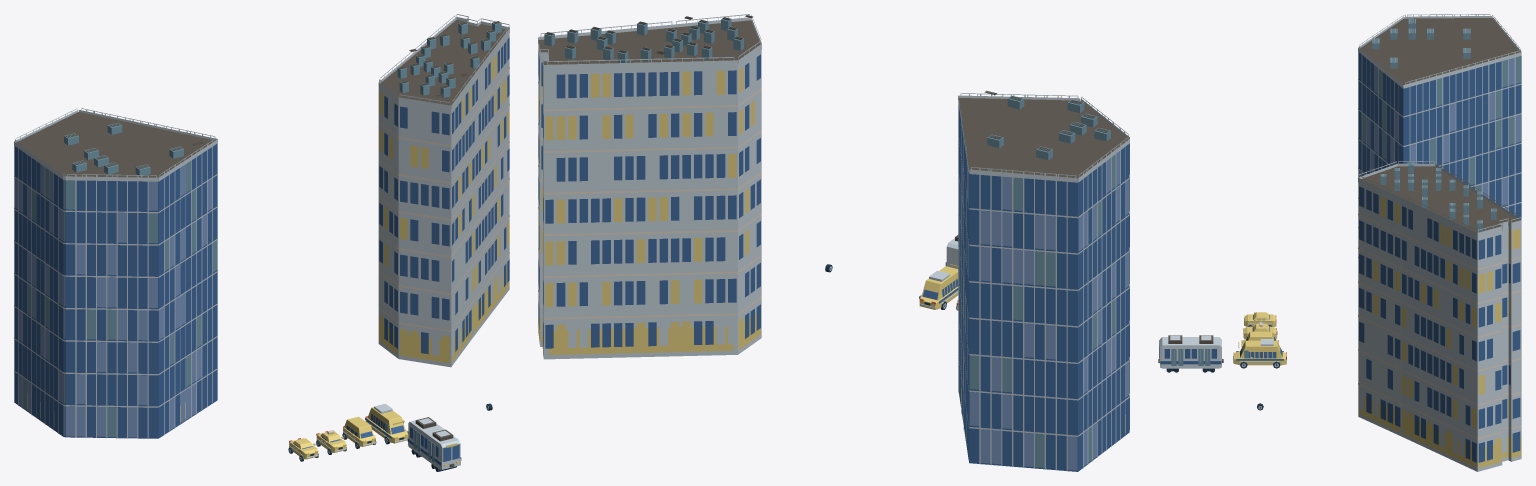
File: shibuya.glb
The picture shows the model from 3 angles, left to right: view 1: azimuth 30°, elevation 25°; view 2: azimuth 150°, elevation 25°; view 3: azimuth 270°, elevation 25°; orthographic projection. The views are drawn at different scales.
Visible parts, largest first — view 1: building-qfront-body, building-magnet-body, metro-carriage-body, vehicle-bus-body, vehicle-van-body; view 2: building-magnet-body, building-qfront-body, vehicle-bus-body; view 3: building-magnet-body, building-qfront-body, metro-carriage-body, vehicle-bus-body, vehicle-sedan-body.
Boxes of the visible parts, x1=… form: building-qfront-body: x1=14, y1=108, x2=217, y2=438; building-magnet-body: x1=378, y1=14, x2=509, y2=367; metro-carriage-body: x1=407, y1=417, x2=461, y2=471; vehicle-bus-body: x1=365, y1=403, x2=408, y2=443; vehicle-van-body: x1=343, y1=416, x2=375, y2=446; building-magnet-body: x1=538, y1=14, x2=761, y2=359; building-qfront-body: x1=958, y1=90, x2=1129, y2=471; vehicle-bus-body: x1=919, y1=264, x2=958, y2=309; building-magnet-body: x1=1358, y1=161, x2=1521, y2=471; building-qfront-body: x1=1358, y1=14, x2=1521, y2=257; metro-carriage-body: x1=1158, y1=335, x2=1223, y2=372; vehicle-bus-body: x1=1233, y1=339, x2=1286, y2=365; vehicle-sedan-body: x1=1244, y1=312, x2=1276, y2=326.
Bounding box in the file's own units: 0.6307 × 0.3317 × 0.4453.
